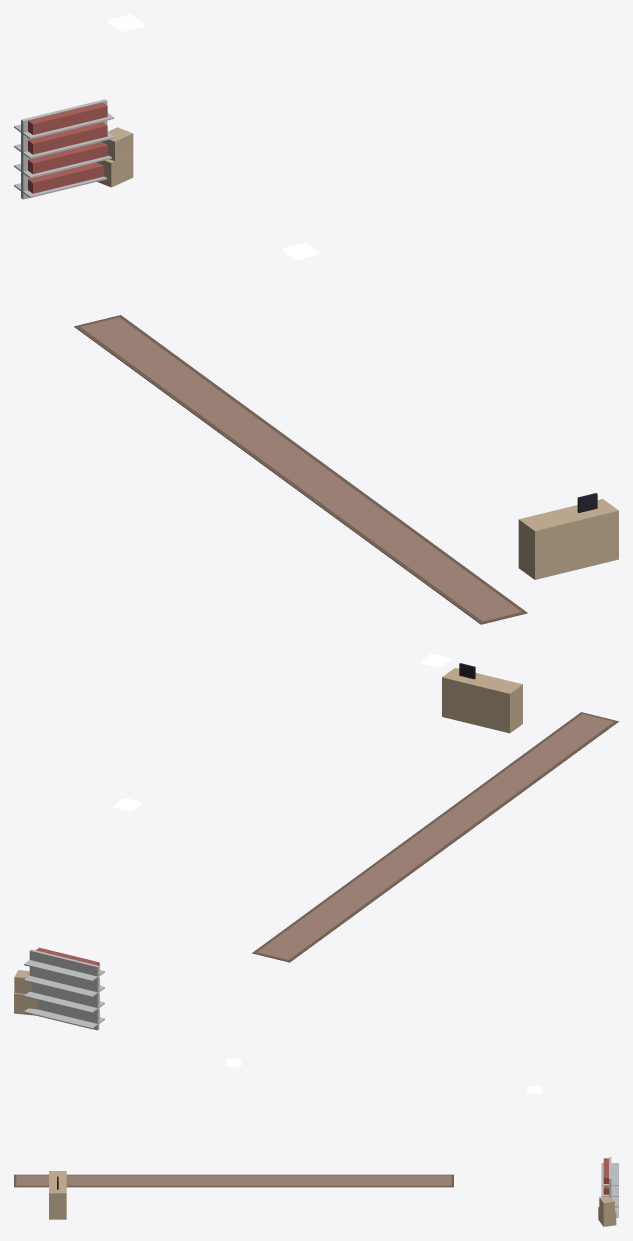
Rendered from fine-s0.glb.
The picture shows the model from 3 angles, top to bottom: view 1: azimuth 30°, elevation 25°; view 2: azimuth 150°, elevation 25°; view 3: azimuth 270°, elevation 25°; orthographic projection. The views are drawn at different scales.
Parts seen in each view (by area): view 1: soft-s0, shelving.000, shop-counter.000, cardboard-box.000; view 2: soft-s0, shelving.000, shop-counter.000, cardboard-box.000; view 3: soft-s0, shop-counter.000, shelving.000, cardboard-box.000.
Boxes of the visible parts, box(x1,y1,x2,y2) form: soft-s0: box(74, 315, 527, 624); shelving.000: box(14, 99, 114, 199); shop-counter.000: box(518, 493, 618, 579); cardboard-box.000: box(96, 127, 133, 187); soft-s0: box(252, 712, 618, 962); shelving.000: box(24, 947, 104, 1030); shop-counter.000: box(442, 663, 522, 733); cardboard-box.000: box(14, 970, 37, 1015); soft-s0: box(14, 1174, 453, 1187); shop-counter.000: box(49, 1171, 66, 1219); shelving.000: box(601, 1157, 618, 1217); cardboard-box.000: box(598, 1196, 616, 1226).
Bounding box in the file's own units: 4.23 × 4.5 × 20.73.
